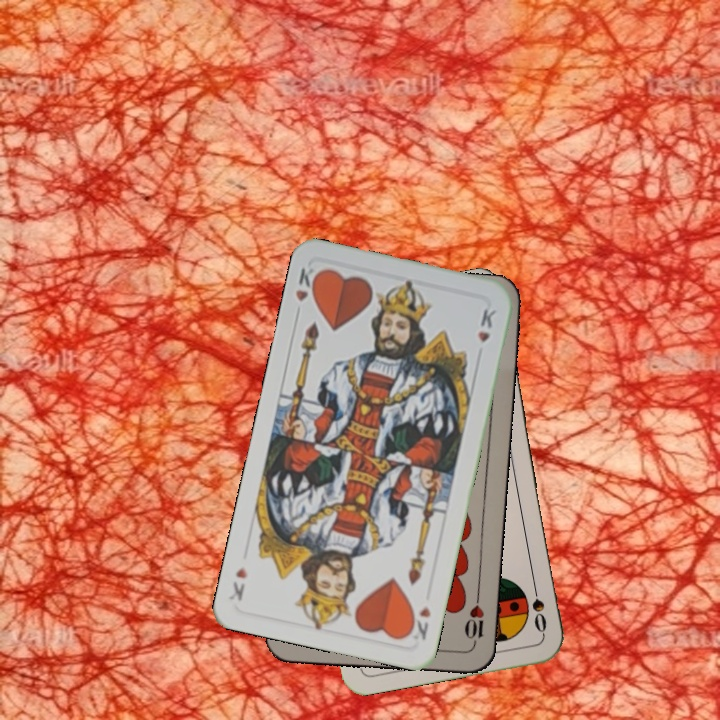H10: (461, 590, 487, 649)
HK: (291, 263, 323, 320), (403, 602, 434, 643)
SO: (528, 578, 549, 637)
